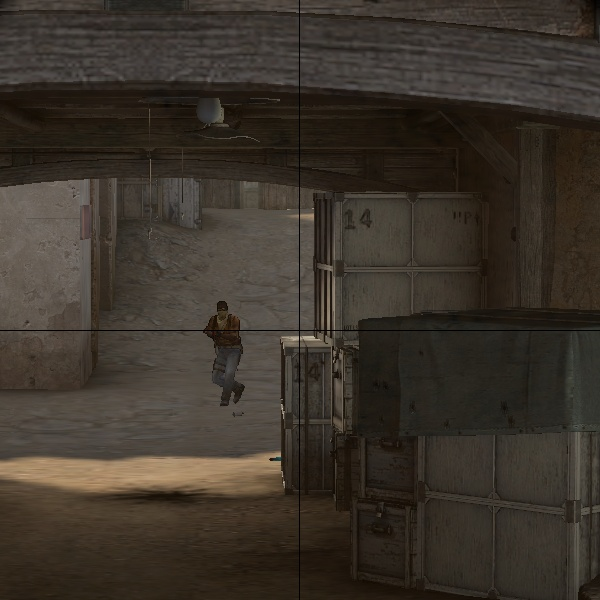t_body: (194, 296, 256, 412)
